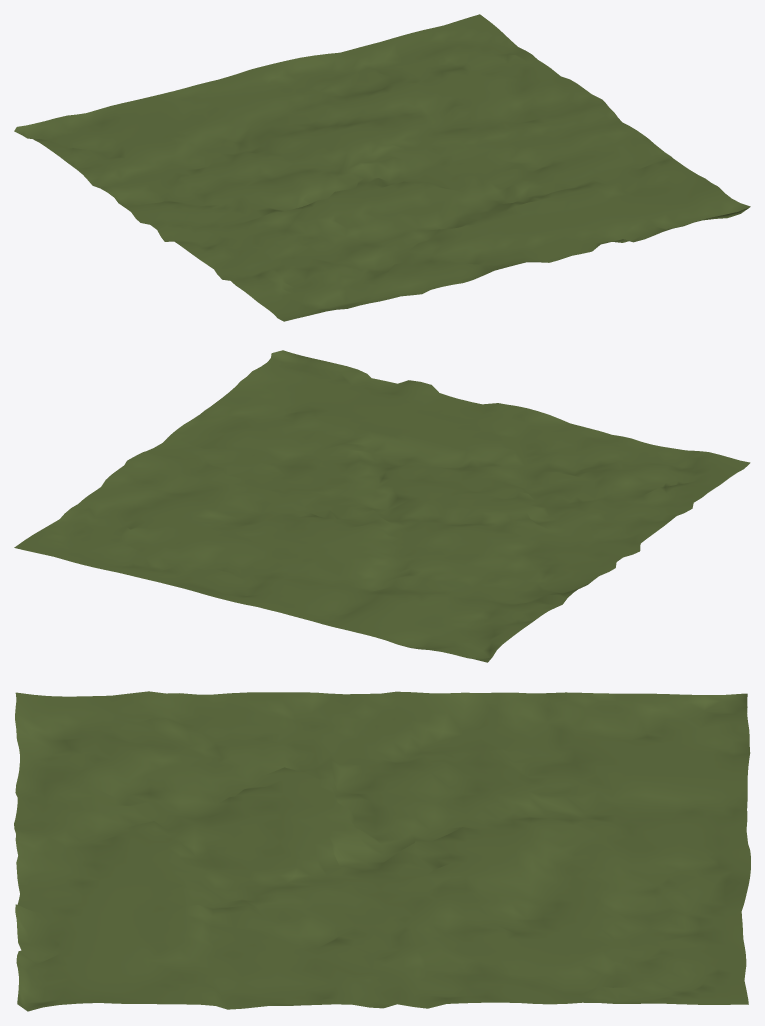
Rendered from Tanah.gltf.
3 views of the same model, one above another, from view 1: azimuth 30°, elevation 25°; view 2: azimuth 150°, elevation 25°; view 3: azimuth 270°, elevation 25° (orthographic). The views are drawn at different scales.
Visible parts, largest first — view 1: Tanah; view 2: Tanah; view 3: Tanah.
Part boxes in pixels (x1,y1,x2,y2): Tanah: [14, 14, 750, 321]; Tanah: [14, 350, 750, 662]; Tanah: [14, 691, 750, 1011].
Size of the model in its own units: 102 by 2.75 by 100.
